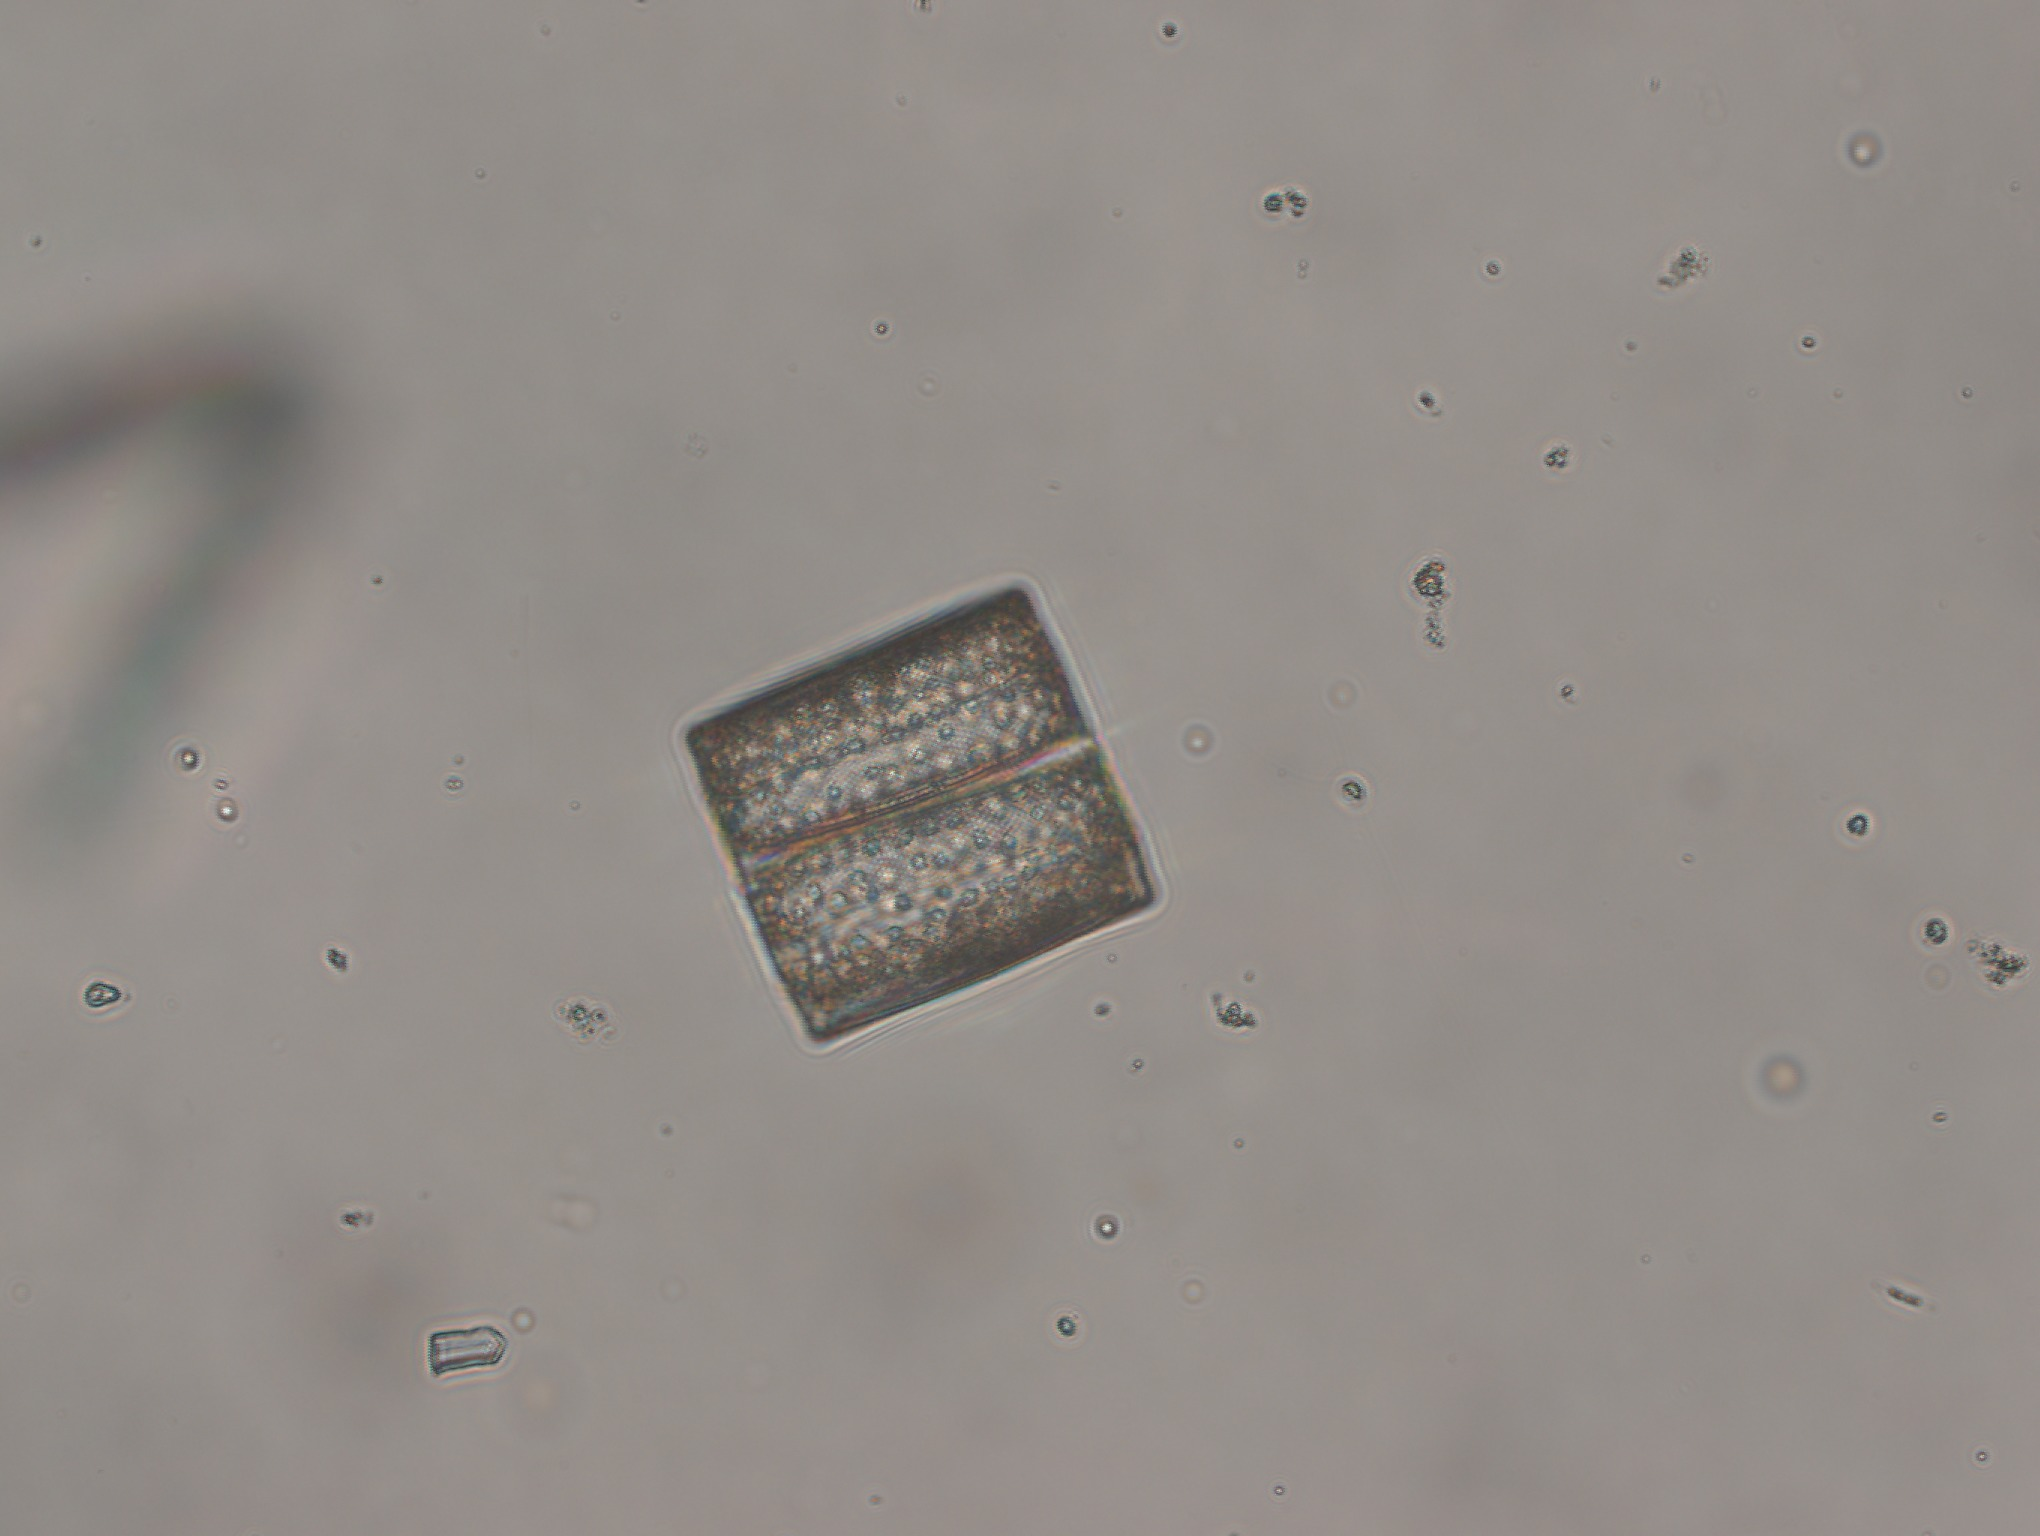coscinodiscus flank: (666, 570, 1203, 1065)
